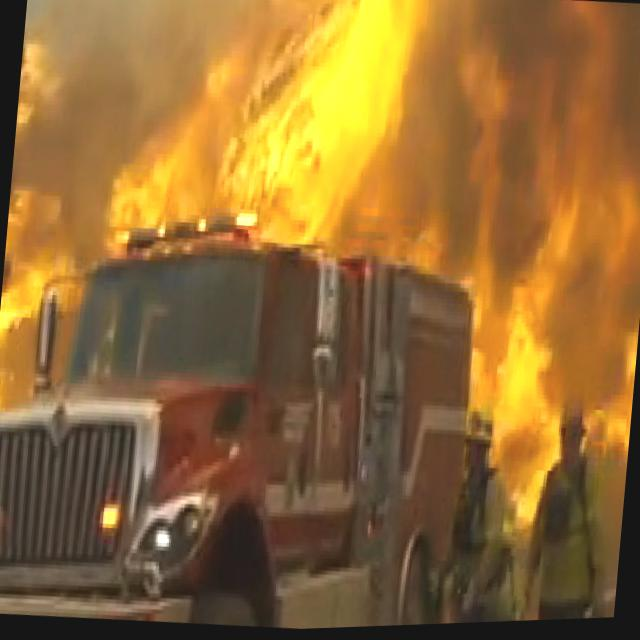fire: (114, 0, 531, 254), (460, 26, 640, 413), (0, 16, 47, 467)
